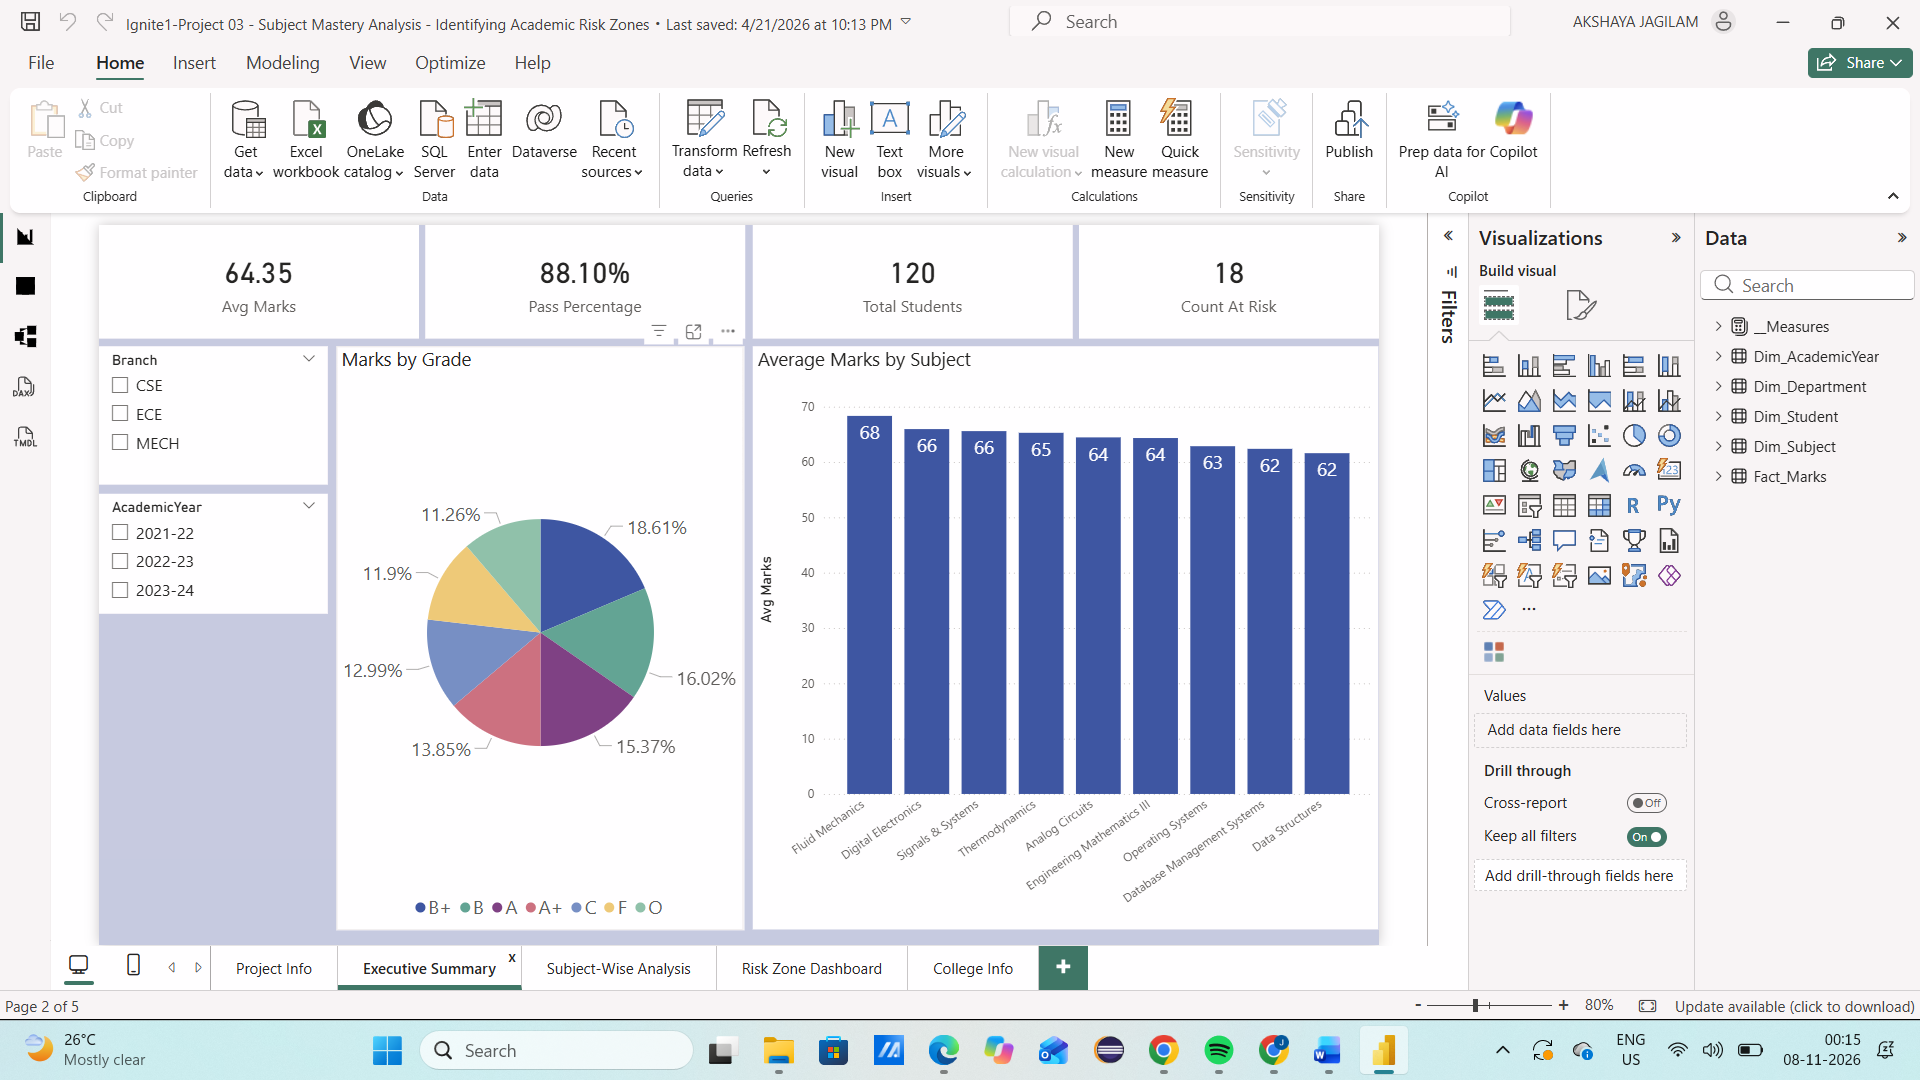

This screenshot's page, from the dashboard's own definition file:
{"tool":"powerbi","page":{"name":"Executive Summary","canvas":[1280,720],"ordinal":1},"visuals":[{"type":"card","fields":{"Values":["__Measures.Avg_Marks"]},"box":[0,0,320,113.6],"z":0},{"type":"card","fields":{"Values":["__Measures.Pass_Percentage"]},"box":[326.6,0,320,113.6],"z":1000},{"type":"card","fields":{"Values":["__Measures.Total_Students"]},"box":[653.2,0,320,113.6],"z":2000},{"type":"card","fields":{"Values":["__Measures.Count_AtRisk"]},"box":[979.8,0,299.7,113.6],"z":3000},{"type":"pieChart","title":"Marks by Grade","fields":{"Category":["Fact_Marks.Grade"],"Y":["CountNonNull(Fact_Marks.MarkID)"]},"box":[237.1,121.9,408.4,582.9],"z":4000},{"type":"clusteredColumnChart","title":"Average Marks by Subject","fields":{"Category":["Dim_Subject.SubjectName"],"Y":["__Measures.Avg_Marks"]},"box":[653.7,121.9,625.7,582.9],"z":5000},{"type":"slicer","fields":{"Values":["Dim_Student.Branch"]},"box":[0,121.9,228.9,138.3],"z":6000},{"type":"slicer","fields":{"Values":["Dim_AcademicYear.AcademicYear"]},"box":[0,268.4,228.9,120.2],"z":7000}]}

Visuals, with their boxes on the page's 1280x720 design canvas (x1, y1, x2, y2). These are canvas units, not pixel positions in the 1920x1080 screenshot, which may show the page scaled, cropped or inside an application window:
card - __Measures.Avg_Marks: <bbox>0, 0, 320, 114</bbox>
card - __Measures.Pass_Percentage: <bbox>327, 0, 647, 114</bbox>
card - __Measures.Total_Students: <bbox>653, 0, 973, 114</bbox>
card - __Measures.Count_AtRisk: <bbox>980, 0, 1280, 114</bbox>
"Marks by Grade" pieChart: <bbox>237, 122, 646, 705</bbox>
"Average Marks by Subject" clusteredColumnChart: <bbox>654, 122, 1279, 705</bbox>
slicer - Dim_Student.Branch: <bbox>0, 122, 229, 260</bbox>
slicer - Dim_AcademicYear.AcademicYear: <bbox>0, 268, 229, 389</bbox>
